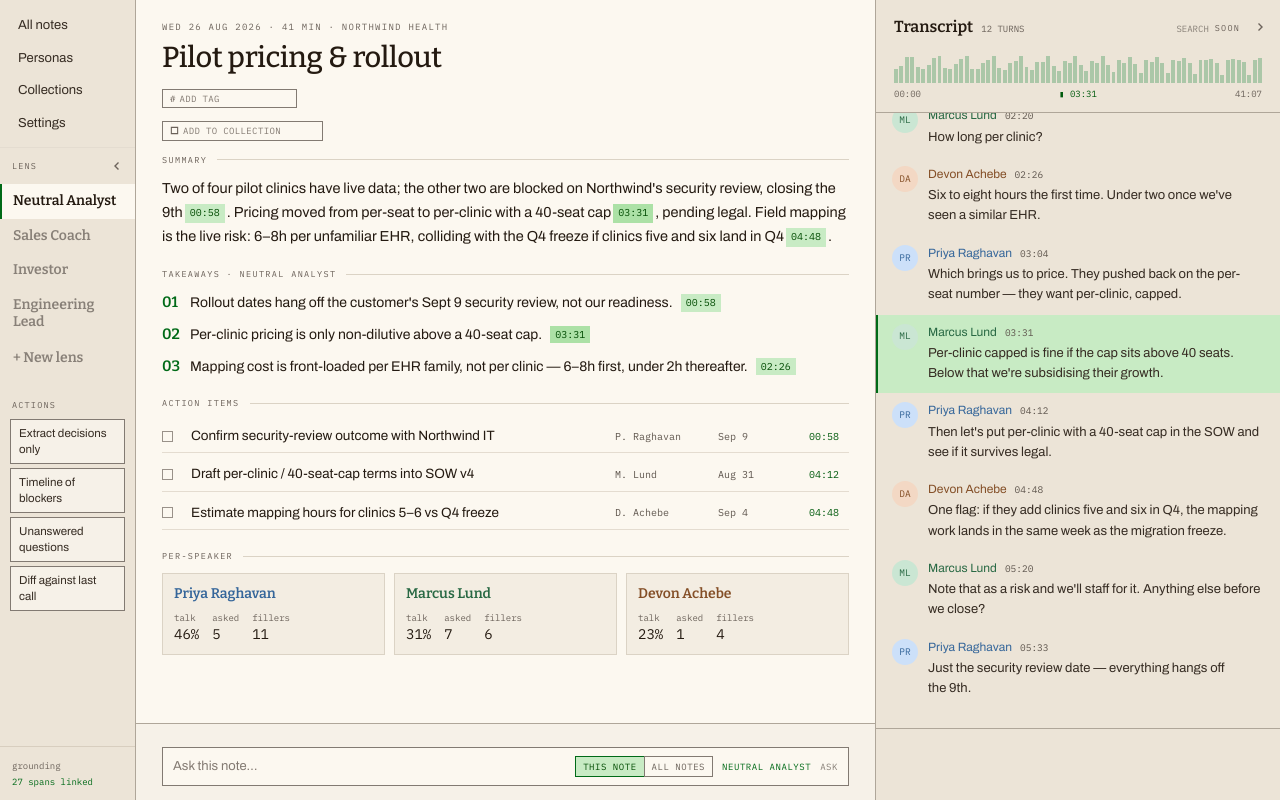
Test: hiding and showing a pane by button › hides the transcript to a strip and brings it back
(page scrolled)
Click the button named "Hide transcript" at (1260, 27), box [1248,15,1272,39]
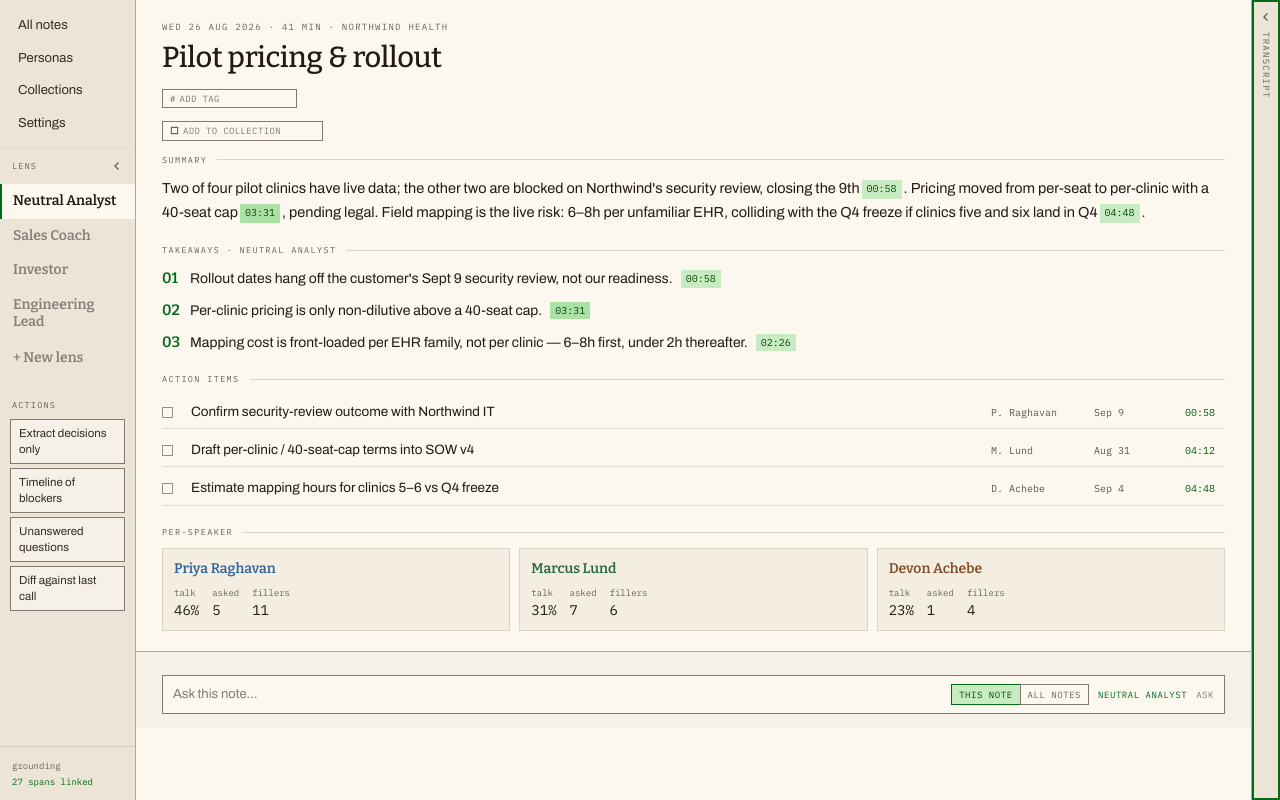
Expected: the button with id "transcript-pane" is gone
Expected: the button with aria-label "Show transcript" is collapsed
Click the button with aria-label "Show transcript" at (1266, 400), box [1252,0,1279,799]
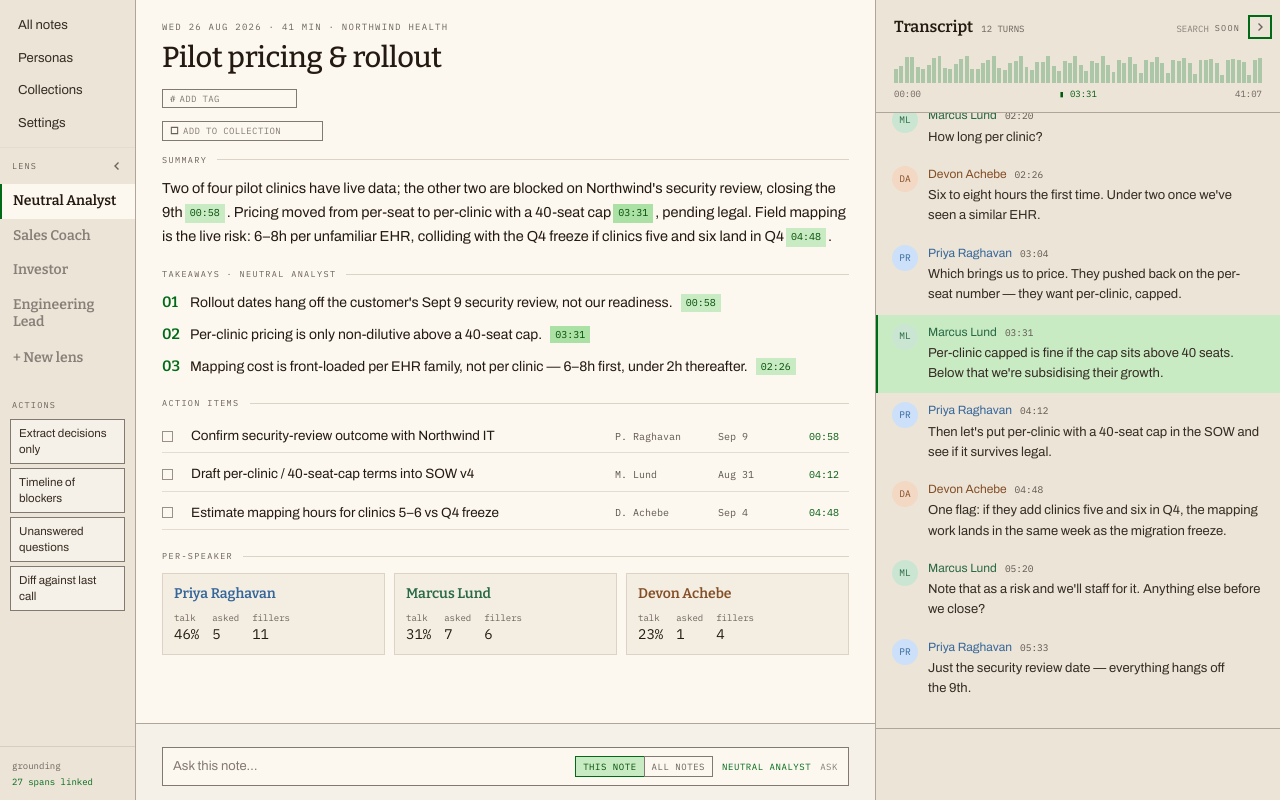
Expected: the element with id "transcript-pane" is shown, [876,0,1279,799]
Expected: the button named "Hide transcript" is expanded, [1248,15,1272,39]
